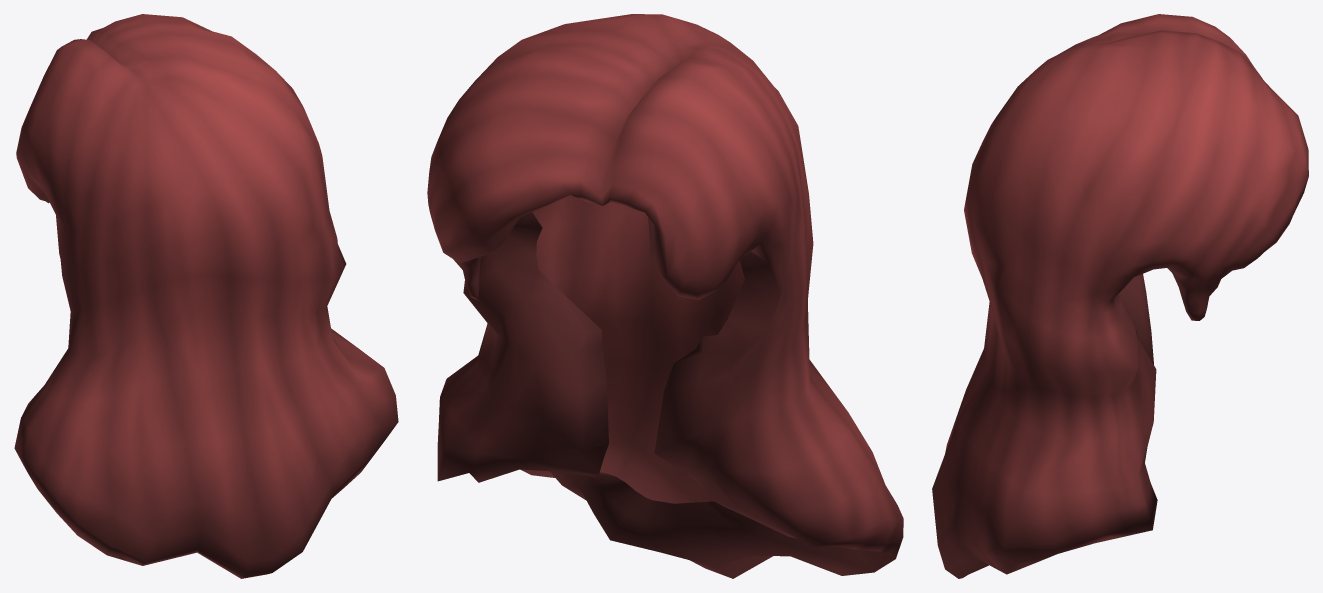
File: Hair_Female_003_textured_red.glb
The picture shows the model from 3 angles, left to right: view 1: azimuth 30°, elevation 25°; view 2: azimuth 150°, elevation 25°; view 3: azimuth 270°, elevation 25°; orthographic projection. The views are drawn at different scales.
Visible parts, largest first — view 1: Hair_Female_003; view 2: Hair_Female_003; view 3: Hair_Female_003.
Boxes of the visible parts, <box> form: Hair_Female_003: <box>14,14,398,578</box>; Hair_Female_003: <box>427,14,903,578</box>; Hair_Female_003: <box>932,14,1308,578</box>.
Bounding box in the file's own units: 0.2864 × 0.3854 × 0.2514.
1 material, 1 textured.
